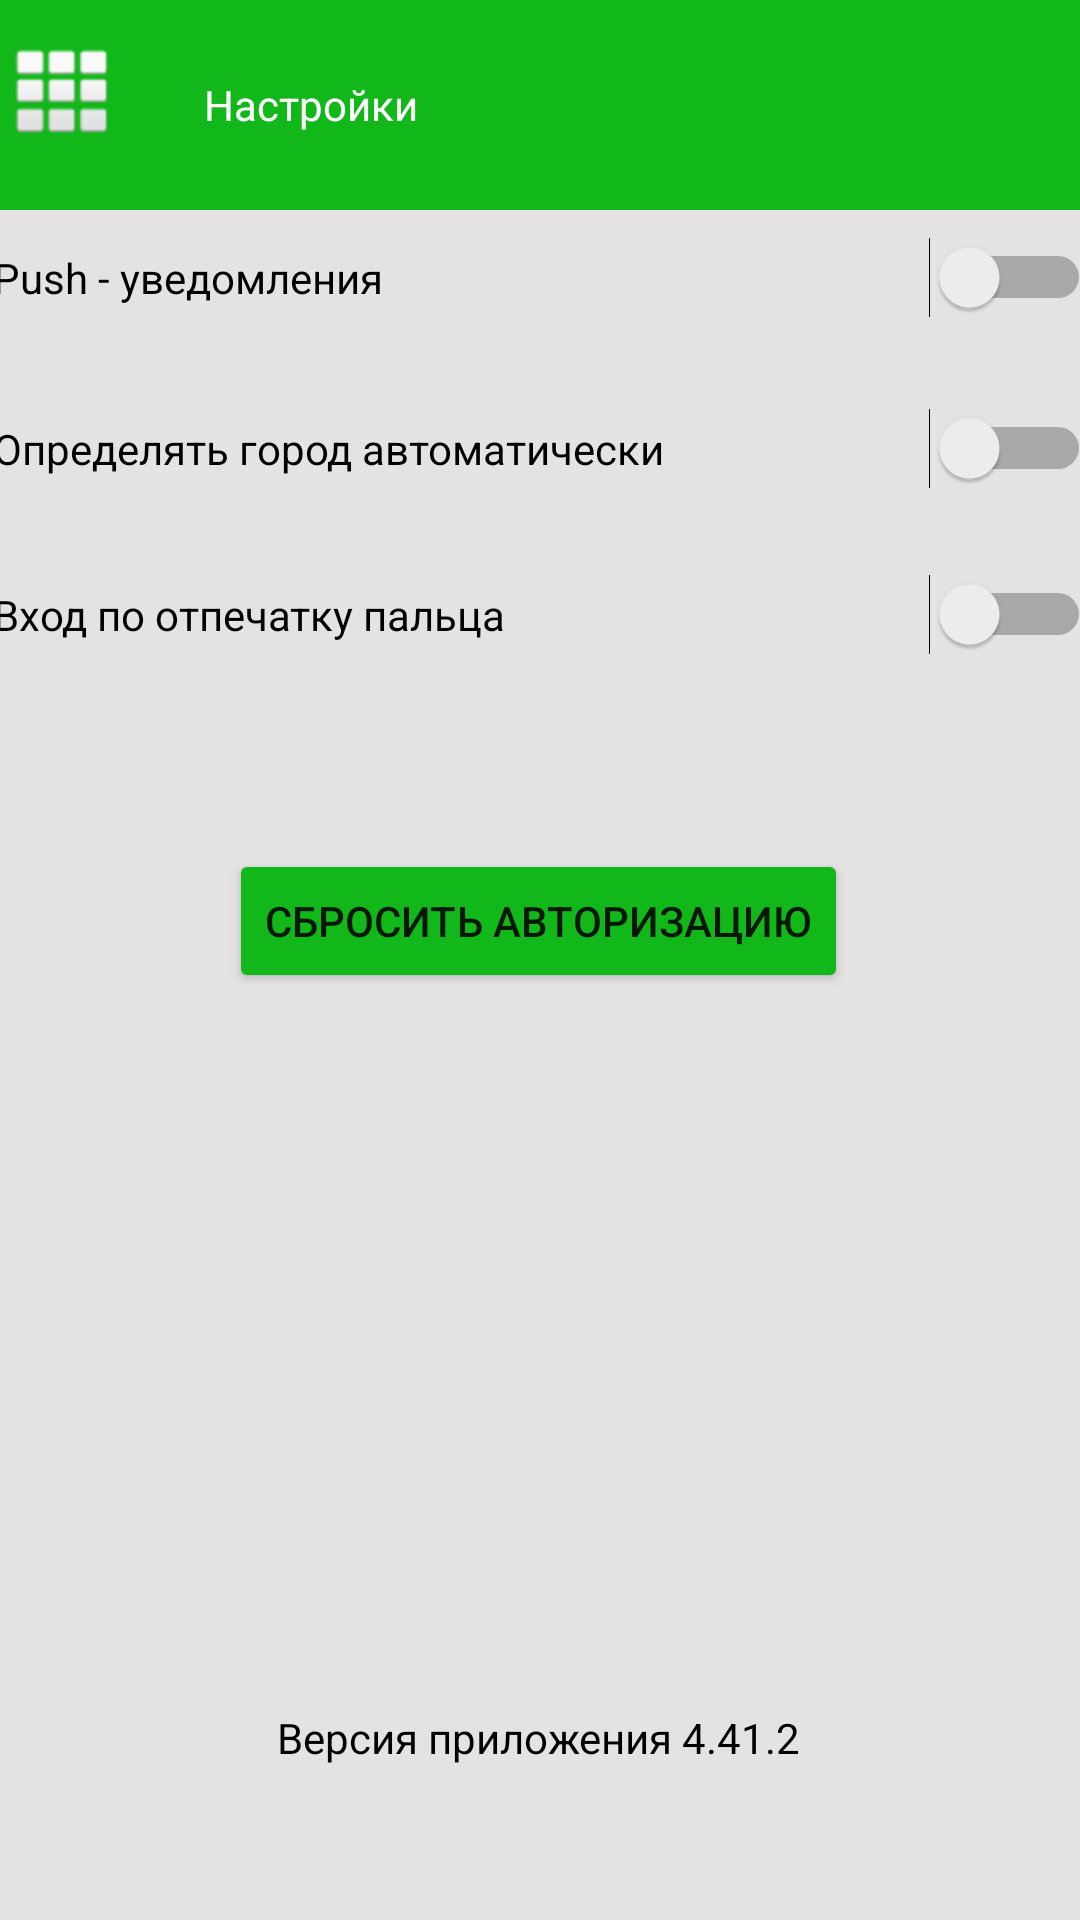

Named icons in this screenshot (1080px×1920px) and their bounding boxes, (x1, y1, x2, y2):
dialer: (15, 49, 107, 133)
